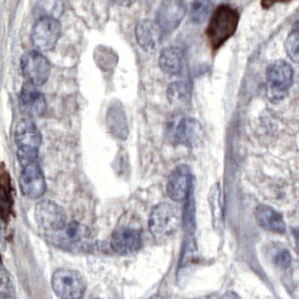Lymphocyte: (206, 3, 238, 48)
